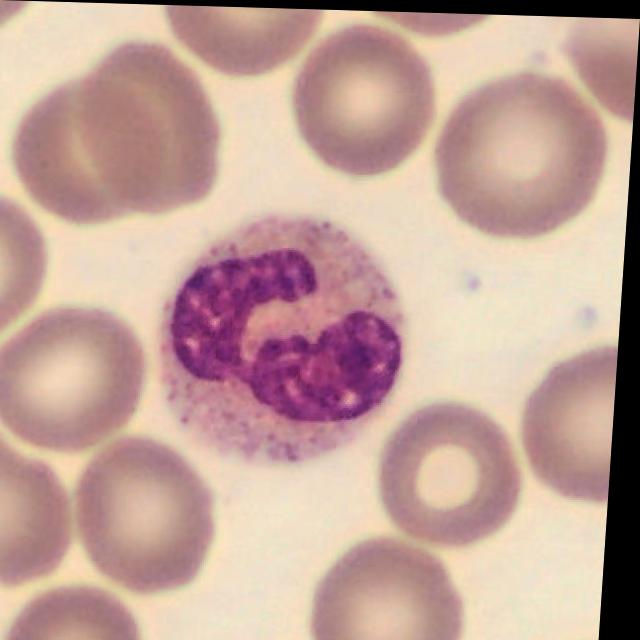Neutrofilo segmentado: (165, 223, 405, 460)
